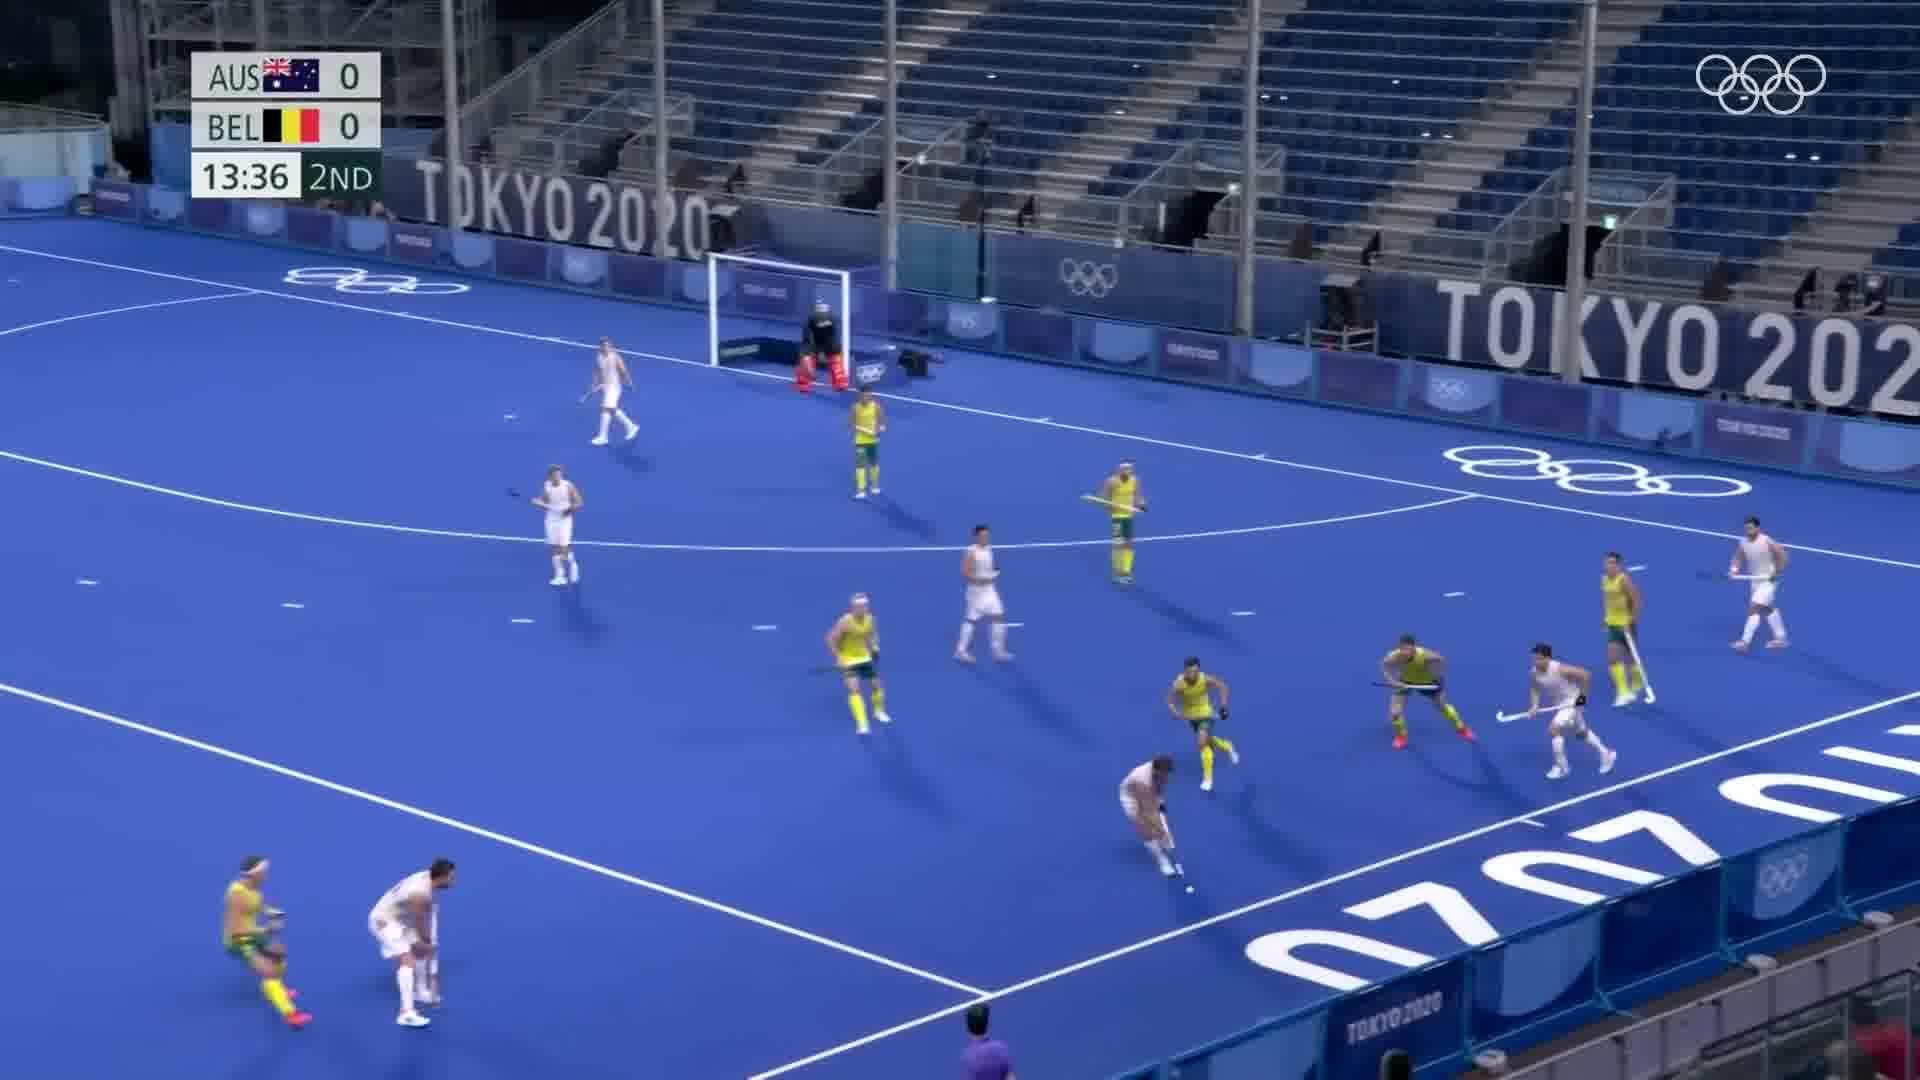ball: (1179, 876, 1203, 901)
